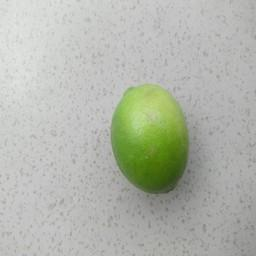Good_lime: (114, 82, 190, 194)
